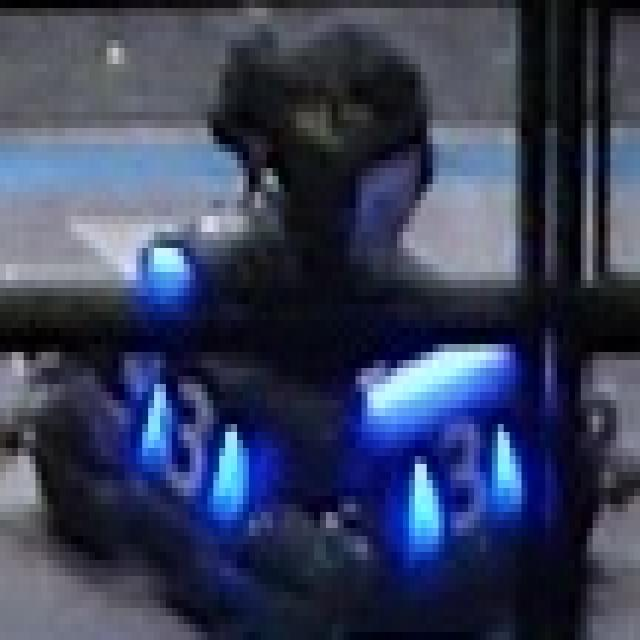B3: (403, 408, 521, 560), (130, 376, 249, 512)
